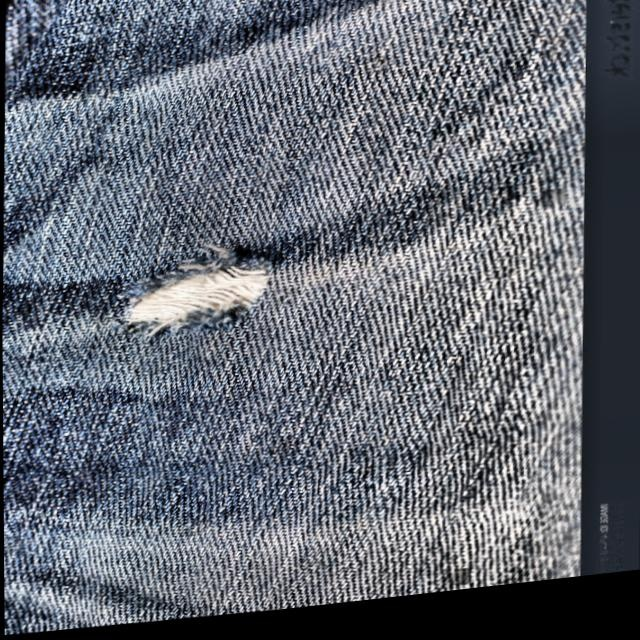Hole: (79, 227, 303, 364)
